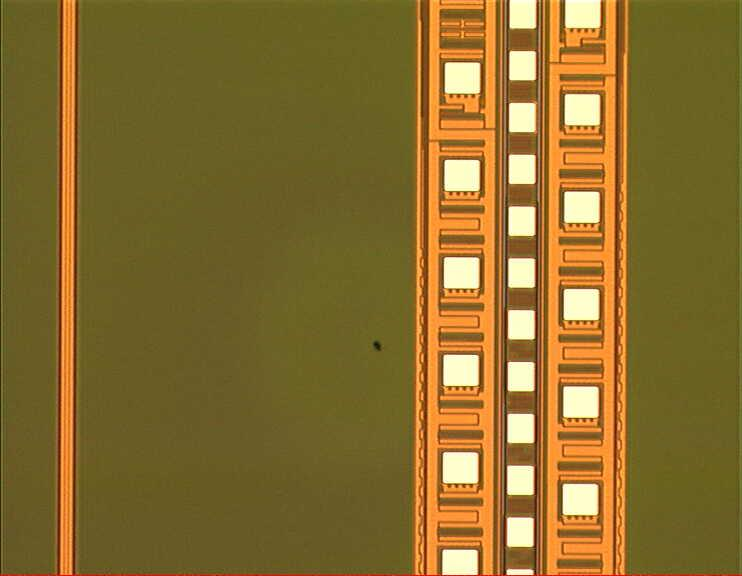PIQ PARTICLE: (365, 332, 393, 360)
